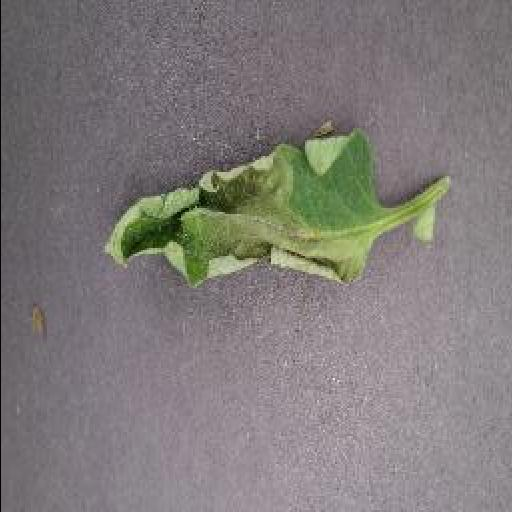disease_tomato: (100, 120, 380, 294)
